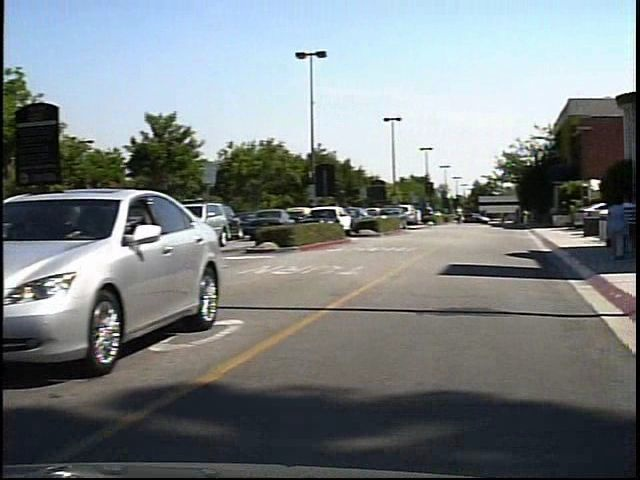person: (464, 206, 476, 227)
